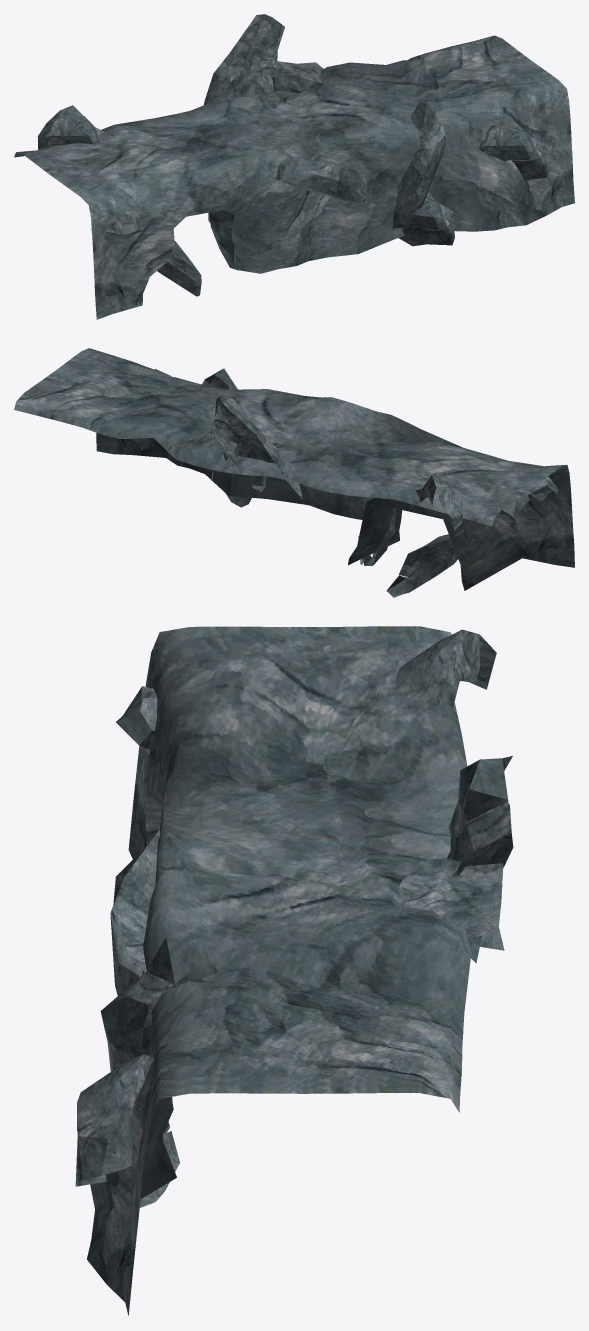
Rendered from GroundPiece2.fbx.
The picture shows the model from 3 angles, top to bottom: view 1: azimuth 30°, elevation 25°; view 2: azimuth 150°, elevation 25°; view 3: azimuth 270°, elevation 25°; orthographic projection. The views are drawn at different scales.
Parts seen in each view (by area): view 1: GroundPiece2; view 2: GroundPiece2; view 3: GroundPiece2.
Part boxes in pixels (left/top/right/bottom): GroundPiece2: left=14, top=14, right=574, bottom=319; GroundPiece2: left=14, top=348, right=574, bottom=597; GroundPiece2: left=75, top=626, right=513, bottom=1315.
Size of the model in its own units: 10.01 by 4.17 by 3.96.
2 materials, 2 textured.
